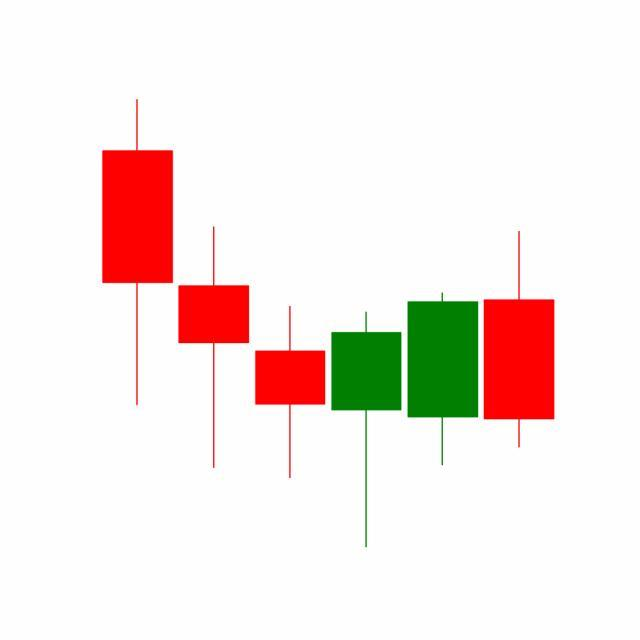Three Outside Up-Down: (252, 289, 482, 549)
